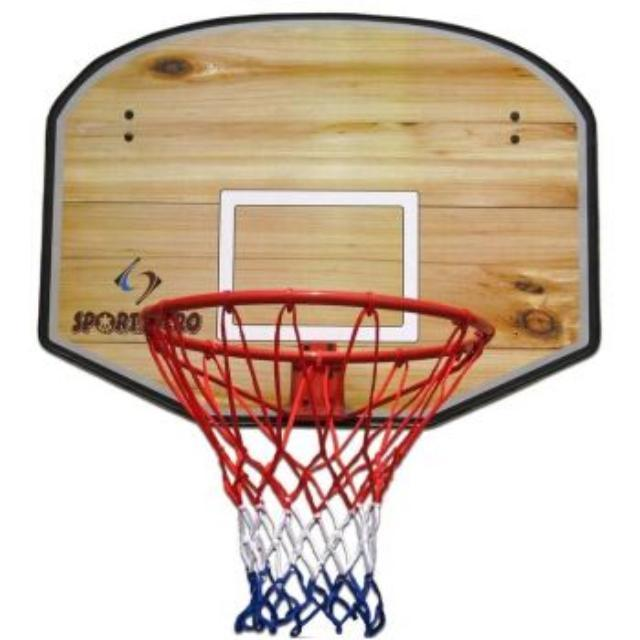rim: (142, 290, 494, 640)
